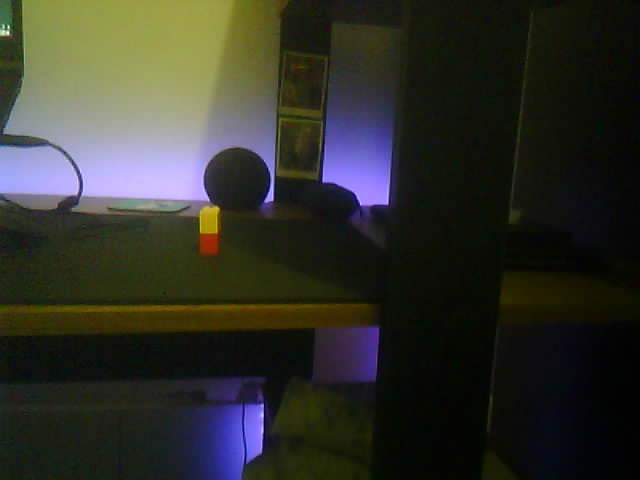lego: (198, 205, 222, 256)
